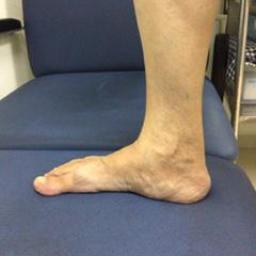Medial View -Right Foot-: (28, 97, 222, 217)
